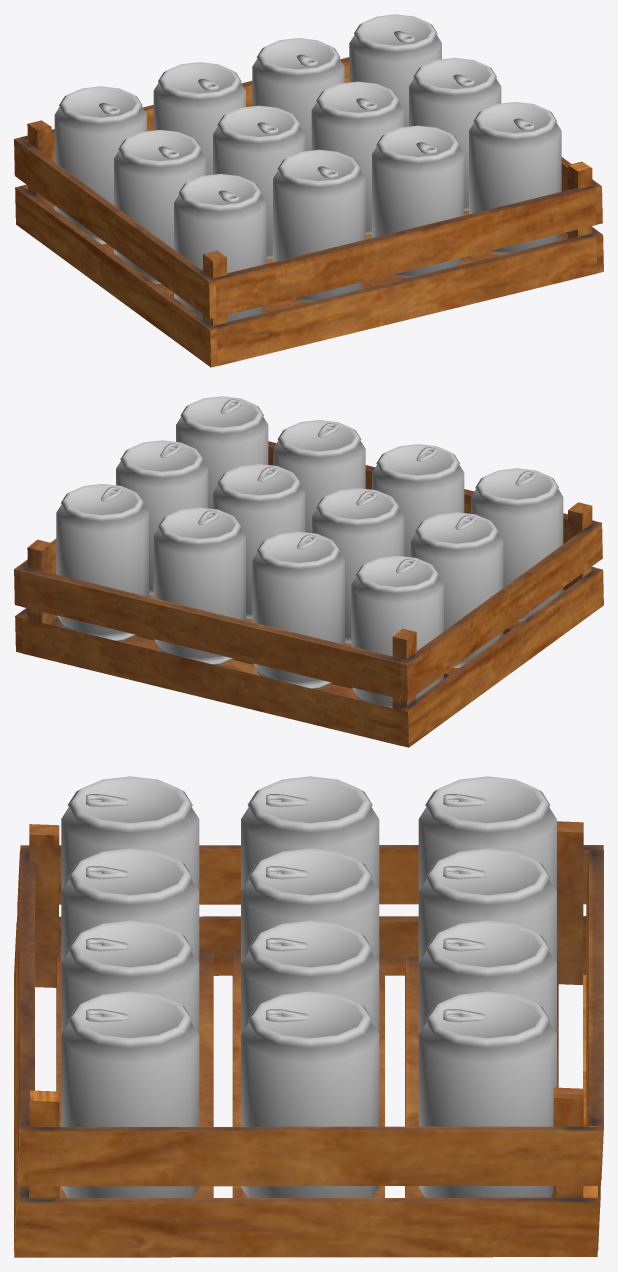
The model's file is Soda.fbx.
The picture shows the model from 3 angles, top to bottom: view 1: azimuth 30°, elevation 25°; view 2: azimuth 150°, elevation 25°; view 3: azimuth 270°, elevation 25°; orthographic projection. The views are drawn at different scales.
Parts seen in each view (by area): view 1: Rack.010, SMGP_PRE_Soda_1024__1_.009, SMGP_PRE_Soda_1024__1_.011, SMGP_PRE_Soda_1024__1_.010, SMGP_PRE_Soda_1024__1_.008, SMGP_PRE_Soda_1024__1_.004, SMGP_PRE_Soda_1024__1_, SMGP_PRE_Soda_1024__1_.006, SMGP_PRE_Soda_1024__1_.005, SMGP_PRE_Soda_1024__1_.007, SMGP_PRE_Soda_1024__1_.001, SMGP_PRE_Soda_1024__1_.002 (+1 smaller); view 2: Rack.010, SMGP_PRE_Soda_1024__1_.001, SMGP_PRE_Soda_1024__1_.003, SMGP_PRE_Soda_1024__1_.002, SMGP_PRE_Soda_1024__1_, SMGP_PRE_Soda_1024__1_.008, SMGP_PRE_Soda_1024__1_.004, SMGP_PRE_Soda_1024__1_.005, SMGP_PRE_Soda_1024__1_.006, SMGP_PRE_Soda_1024__1_.007, SMGP_PRE_Soda_1024__1_.009, SMGP_PRE_Soda_1024__1_.010 (+1 smaller); view 3: Rack.010, SMGP_PRE_Soda_1024__1_.011, SMGP_PRE_Soda_1024__1_.007, SMGP_PRE_Soda_1024__1_.003, SMGP_PRE_Soda_1024__1_, SMGP_PRE_Soda_1024__1_.004, SMGP_PRE_Soda_1024__1_.008, SMGP_PRE_Soda_1024__1_.009, SMGP_PRE_Soda_1024__1_.001, SMGP_PRE_Soda_1024__1_.005, SMGP_PRE_Soda_1024__1_.006, SMGP_PRE_Soda_1024__1_.002 (+1 smaller).
Boxes of the visible parts, bbox=[...] form: Rack.010: bbox=[14, 57, 603, 367]; SMGP_PRE_Soda_1024__1_.009: bbox=[273, 149, 365, 301]; SMGP_PRE_Soda_1024__1_.011: bbox=[469, 102, 561, 253]; SMGP_PRE_Soda_1024__1_.010: bbox=[372, 125, 464, 277]; SMGP_PRE_Soda_1024__1_.008: bbox=[174, 174, 266, 321]; SMGP_PRE_Soda_1024__1_.004: bbox=[114, 130, 206, 283]; SMGP_PRE_Soda_1024__1_: bbox=[54, 86, 146, 244]; SMGP_PRE_Soda_1024__1_.006: bbox=[311, 81, 404, 234]; SMGP_PRE_Soda_1024__1_.005: bbox=[213, 105, 305, 258]; SMGP_PRE_Soda_1024__1_.007: bbox=[409, 58, 501, 210]; SMGP_PRE_Soda_1024__1_.001: bbox=[153, 62, 245, 175]; SMGP_PRE_Soda_1024__1_.002: bbox=[252, 38, 344, 151]; Rack.010: bbox=[14, 441, 603, 747]; SMGP_PRE_Soda_1024__1_.001: bbox=[252, 531, 344, 689]; SMGP_PRE_Soda_1024__1_.003: bbox=[56, 484, 148, 641]; SMGP_PRE_Soda_1024__1_.002: bbox=[153, 507, 245, 665]; SMGP_PRE_Soda_1024__1_: bbox=[351, 555, 443, 708]; SMGP_PRE_Soda_1024__1_.008: bbox=[471, 468, 563, 621]; SMGP_PRE_Soda_1024__1_.004: bbox=[410, 512, 503, 667]; SMGP_PRE_Soda_1024__1_.005: bbox=[312, 488, 404, 643]; SMGP_PRE_Soda_1024__1_.006: bbox=[213, 464, 305, 618]; SMGP_PRE_Soda_1024__1_.007: bbox=[116, 440, 208, 595]; SMGP_PRE_Soda_1024__1_.009: bbox=[372, 444, 464, 557]; SMGP_PRE_Soda_1024__1_.010: bbox=[273, 420, 365, 532]; Rack.010: bbox=[14, 821, 603, 1257]; SMGP_PRE_Soda_1024__1_.011: bbox=[61, 991, 199, 1198]; SMGP_PRE_Soda_1024__1_.007: bbox=[241, 991, 379, 1197]; SMGP_PRE_Soda_1024__1_.003: bbox=[418, 991, 556, 1197]; SMGP_PRE_Soda_1024__1_: bbox=[418, 776, 556, 890]; SMGP_PRE_Soda_1024__1_.004: bbox=[241, 776, 379, 890]; SMGP_PRE_Soda_1024__1_.008: bbox=[61, 776, 199, 890]; SMGP_PRE_Soda_1024__1_.009: bbox=[61, 848, 199, 962]; SMGP_PRE_Soda_1024__1_.001: bbox=[418, 848, 556, 962]; SMGP_PRE_Soda_1024__1_.005: bbox=[241, 848, 379, 962]; SMGP_PRE_Soda_1024__1_.006: bbox=[241, 920, 379, 1033]; SMGP_PRE_Soda_1024__1_.002: bbox=[418, 920, 556, 1033].
Size of the model in its own units: 0.6471 by 0.2208 by 0.563.
